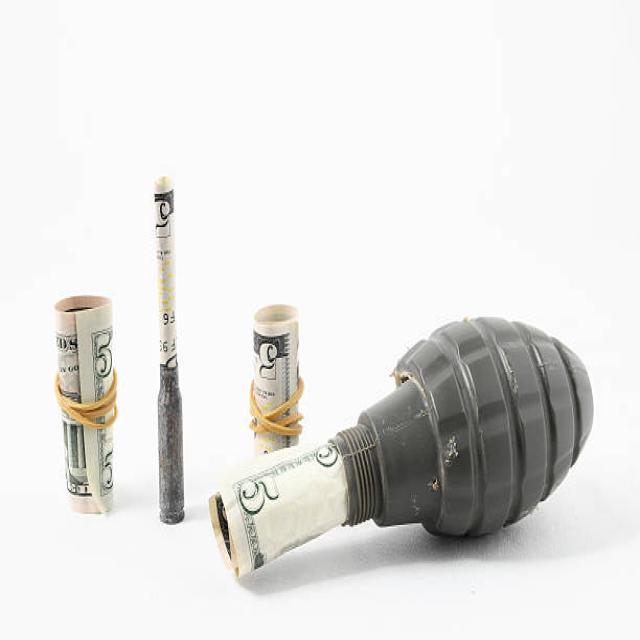grenade: (334, 306, 597, 557)
